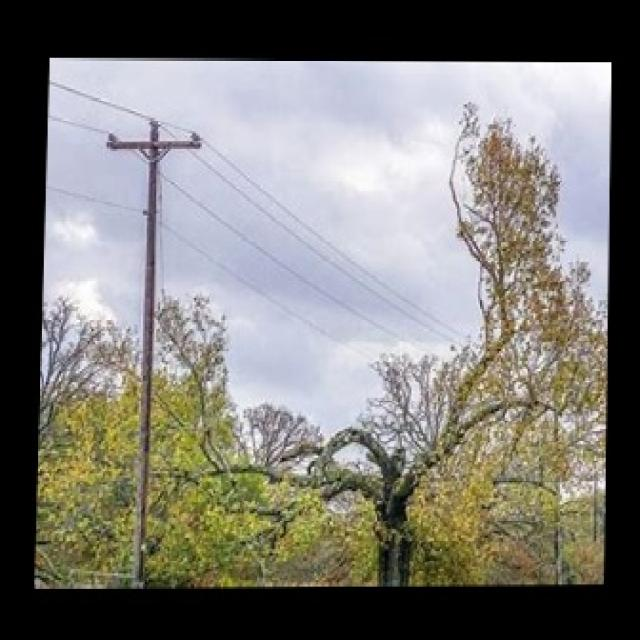utility poles: (85, 93, 228, 587)
